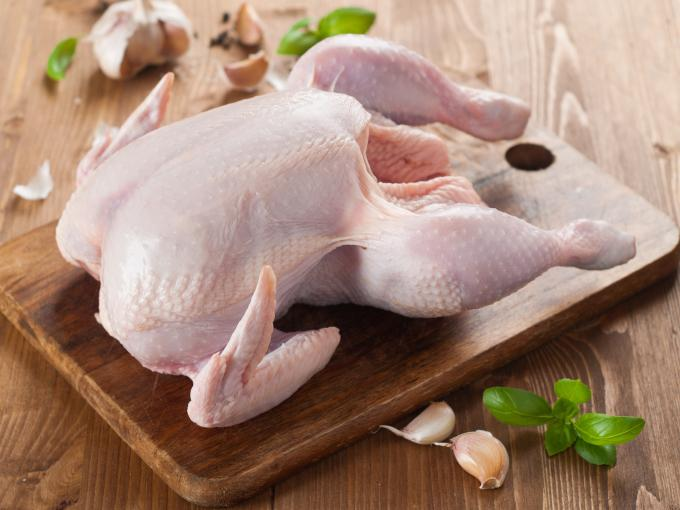chicken: (57, 26, 678, 341)
